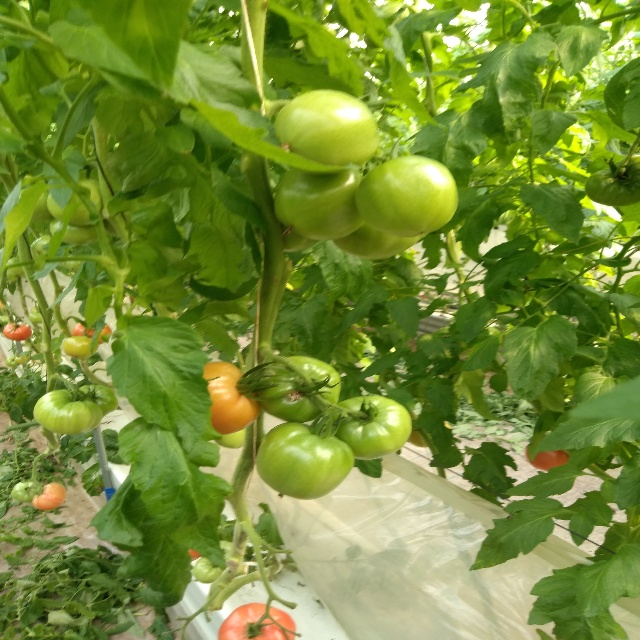b_fully_ripened: (218, 602, 297, 640), (525, 436, 569, 471), (4, 323, 32, 341)
b_green: (355, 154, 460, 237), (275, 89, 380, 169), (255, 422, 356, 500), (275, 164, 367, 240), (257, 355, 341, 423), (325, 395, 412, 460), (334, 223, 427, 259), (33, 388, 103, 434), (585, 155, 639, 207), (75, 384, 119, 418), (62, 335, 99, 359), (193, 557, 223, 583), (214, 428, 247, 450), (11, 481, 42, 503)
b_half_ripened: (204, 361, 261, 434), (72, 319, 111, 345), (32, 482, 66, 510)
